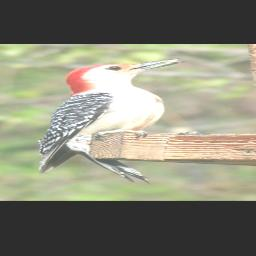Woodpecker: (38, 58, 190, 184)
